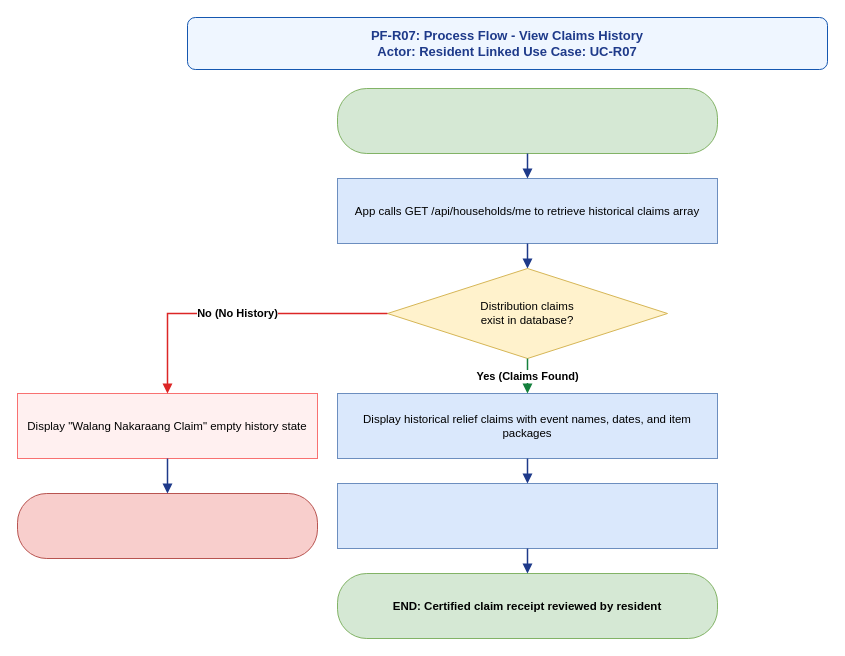
The diagram is 845 pixels wide and 656 high, and some of its shapes have lost their labels. Each missing label, with the box of its shape:
END: Claims ledger currently empty: (16, 492, 318, 558)
Resident taps a claim to inspect scanning officer signature and timestamp: (336, 482, 718, 548)
START: Resident opens ResidentClaimsHistoryScreen: (336, 88, 718, 154)
